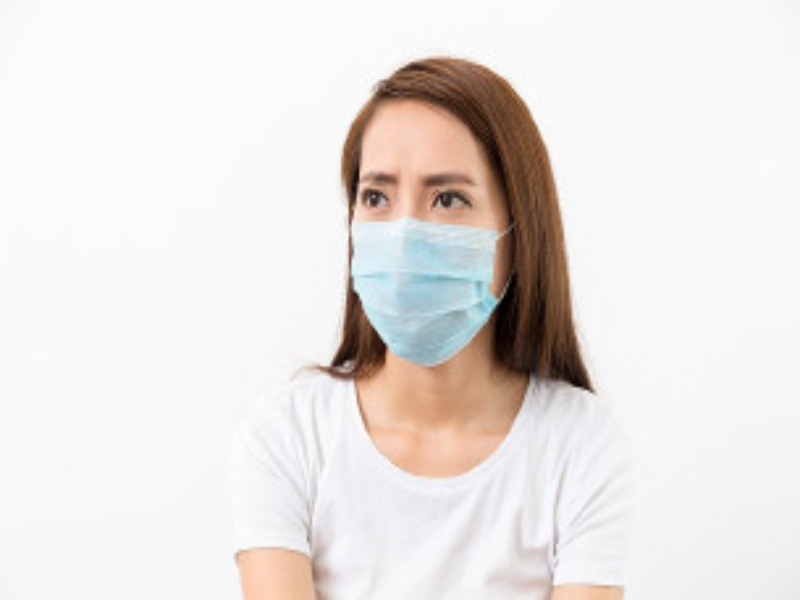mask: (310, 54, 605, 370)
